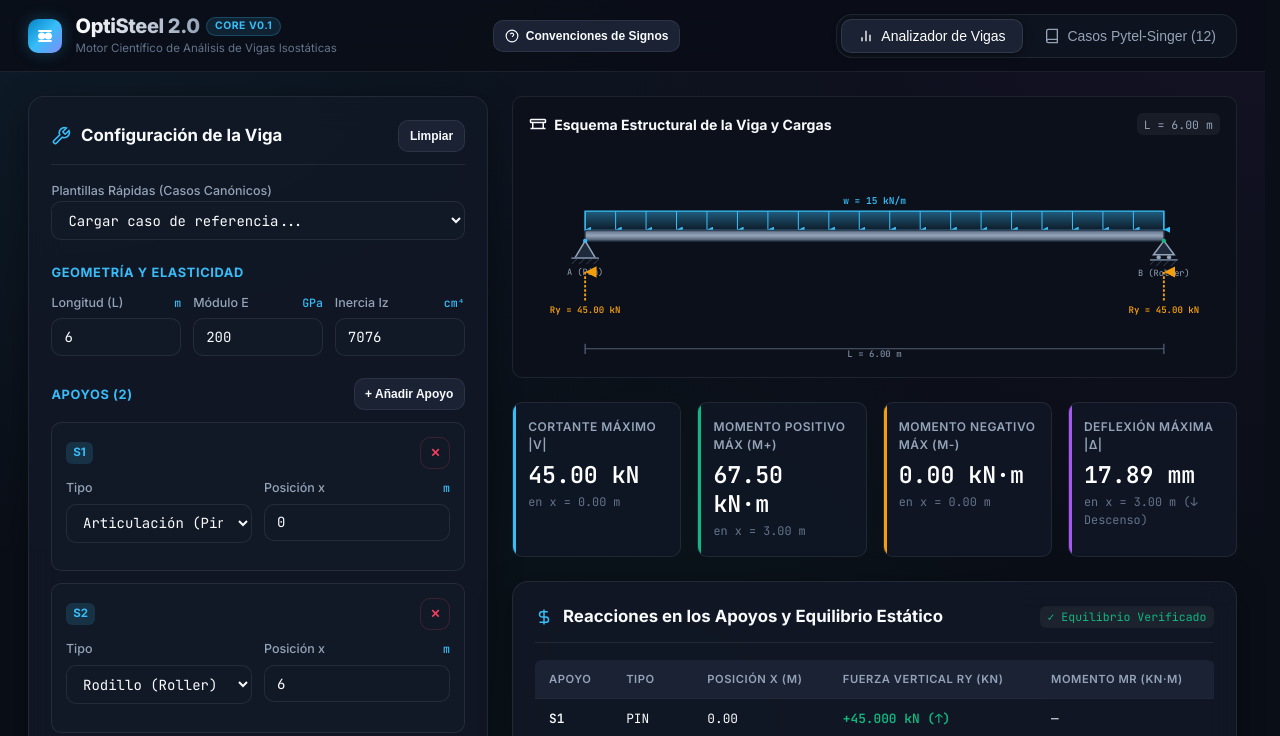
Scenario: OptiSteel 2.0 Web Application Component Tests › 2. Manejo de configuraciones inválidas o inestables
What coordinates should you click on to do the following:
click the button named "Eliminar apoyo"
I would click on:
 (435, 453)
Its box is [420, 437, 450, 469].
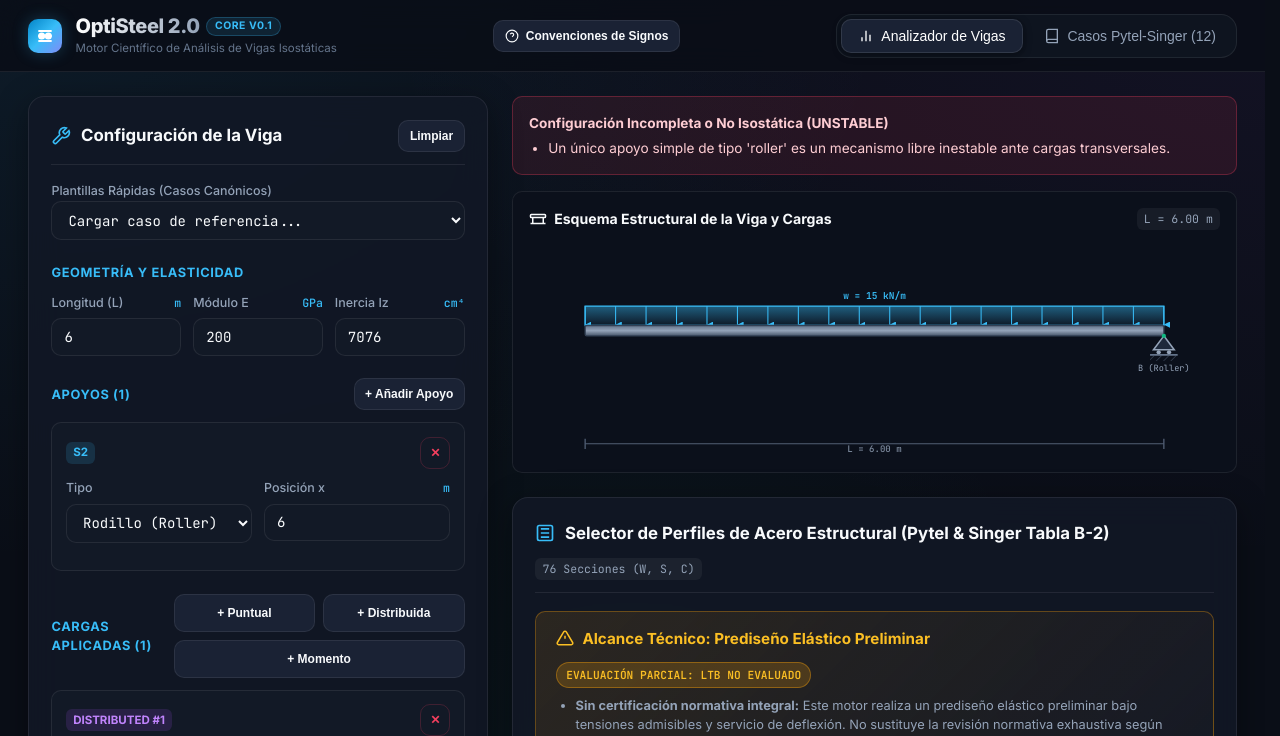
Now the heading "Configuración Incompleta o No Isostática (UNSTABLE)" is shown, box [529, 115, 889, 131]
